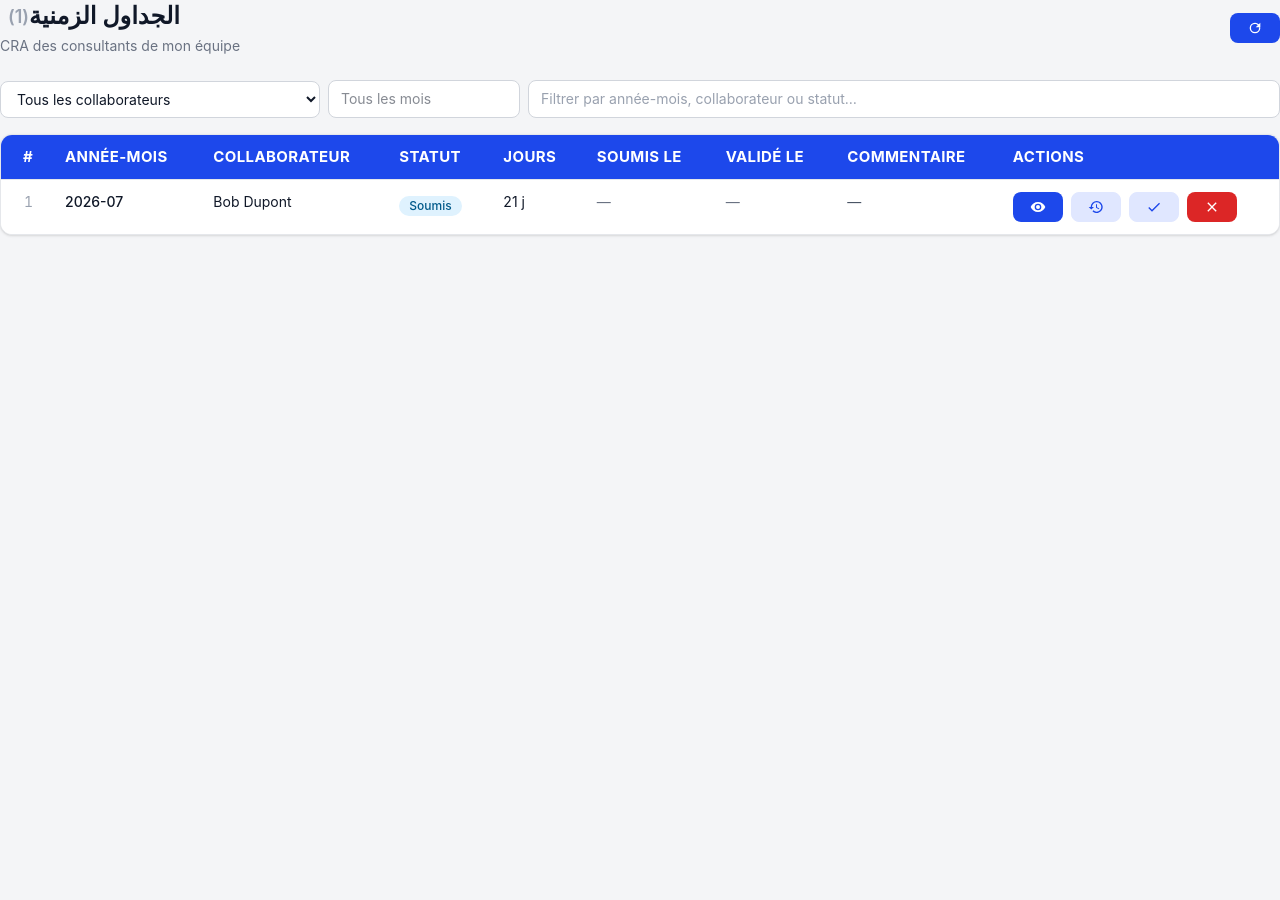
Test: CraList › ouvre l’historique d’un CRA depuis la liste
Click the button named "Historique" at point(1096, 207), box [1071,192,1121,222]
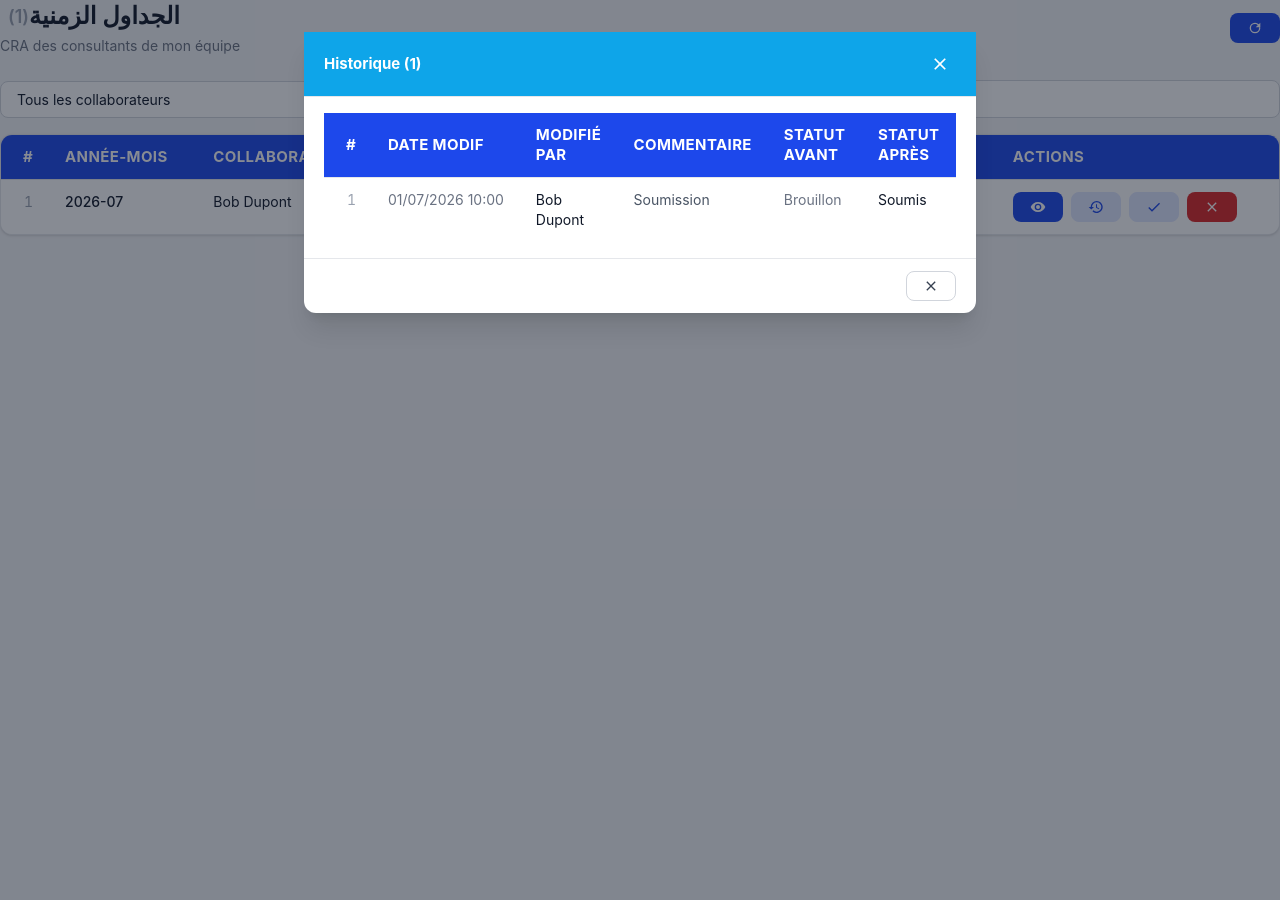
Check: the text "Soumission" is shown, box [618,178,768,242]
